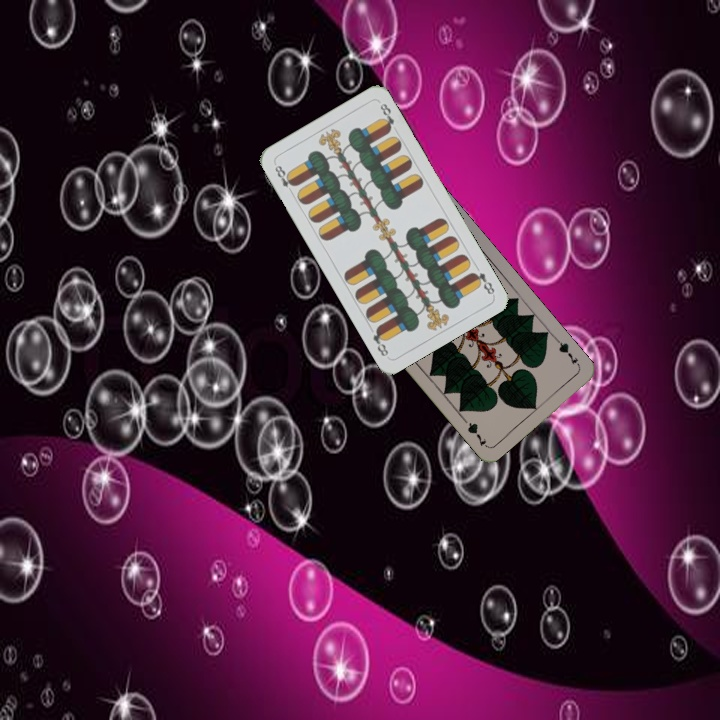E8: (271, 161, 298, 197), (467, 268, 497, 297)
G7: (553, 335, 582, 370)
